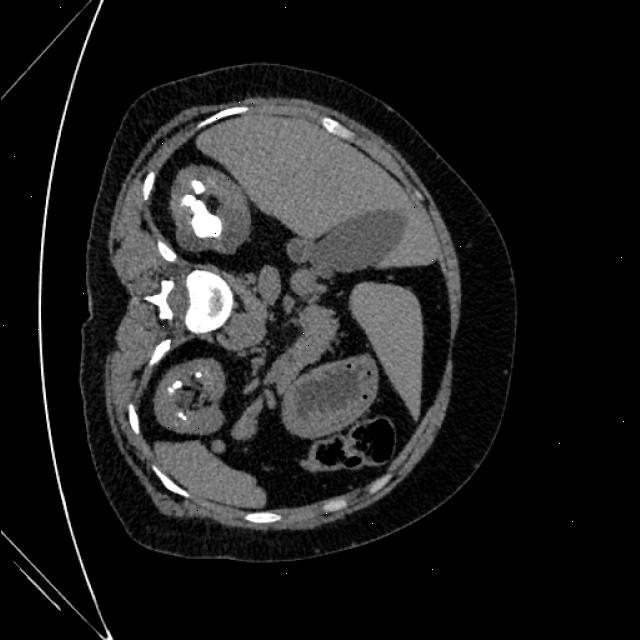kidneystone: (182, 193, 221, 239), (191, 180, 205, 195), (172, 380, 181, 389), (177, 411, 186, 419), (194, 371, 201, 379), (168, 388, 174, 392)
